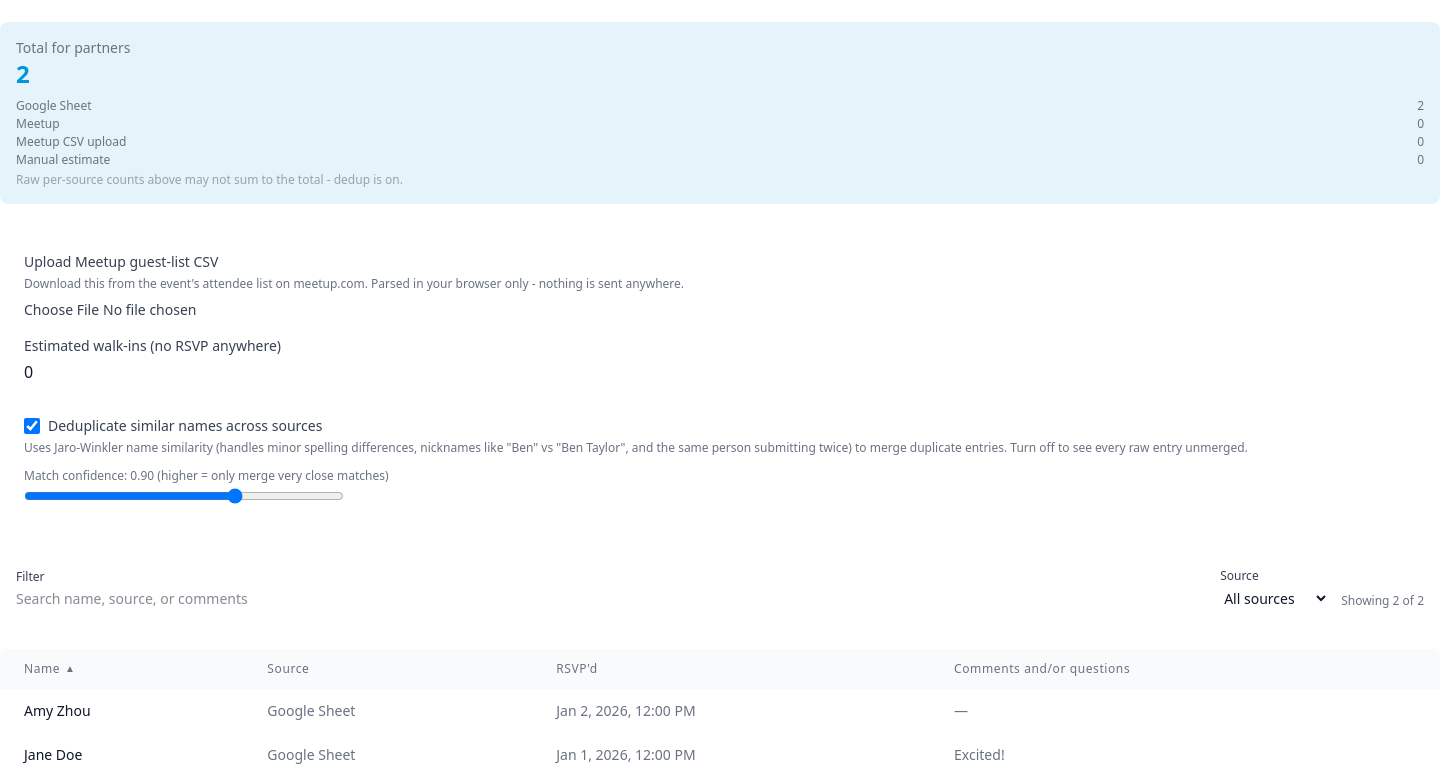
Scenario: RsvpReportPage - dedupe and table controls › filters the table by free text
The image size is (1440, 777).
(page scrolled)
Type "Jane" into the field labelled "Filter".
click(612, 599); type("Jane")  # box [16, 589, 1208, 609]
(page scrolled)
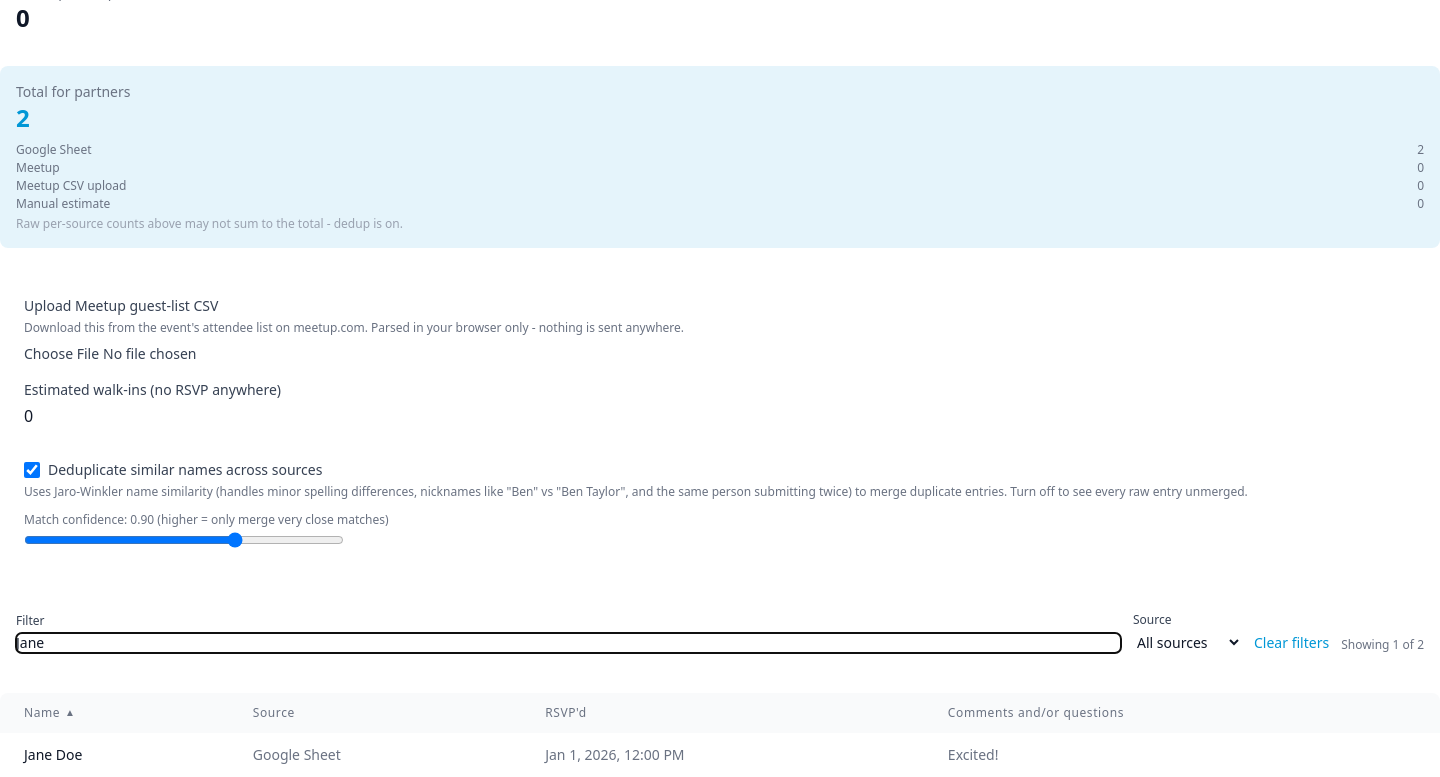
Expected: the text "Jane Doe" is shown, [0, 733, 229, 776]
Expected: the text "Amy Zhou" is gone
Expected: the text "Showing 1 of 2" is shown, [1341, 637, 1424, 653]
